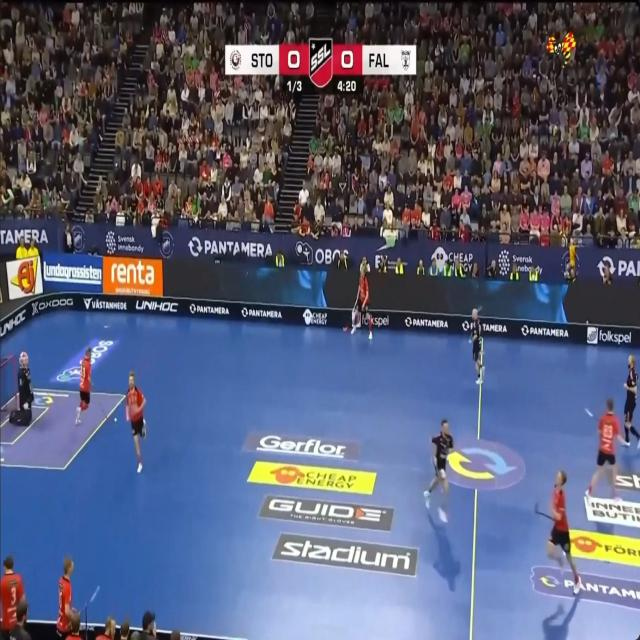Balls: (114, 417, 117, 421)
player: (548, 470, 580, 593), (586, 399, 623, 496), (423, 419, 453, 522), (0, 556, 25, 639), (126, 371, 145, 472), (351, 257, 373, 338), (623, 355, 640, 448), (56, 556, 73, 639), (75, 348, 91, 424), (470, 309, 484, 384)
stick: (534, 502, 553, 520)
